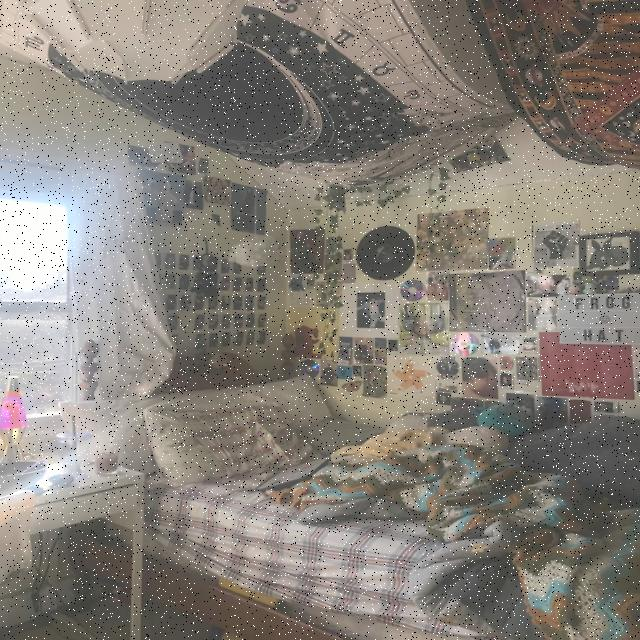bed: (127, 377, 640, 640)
